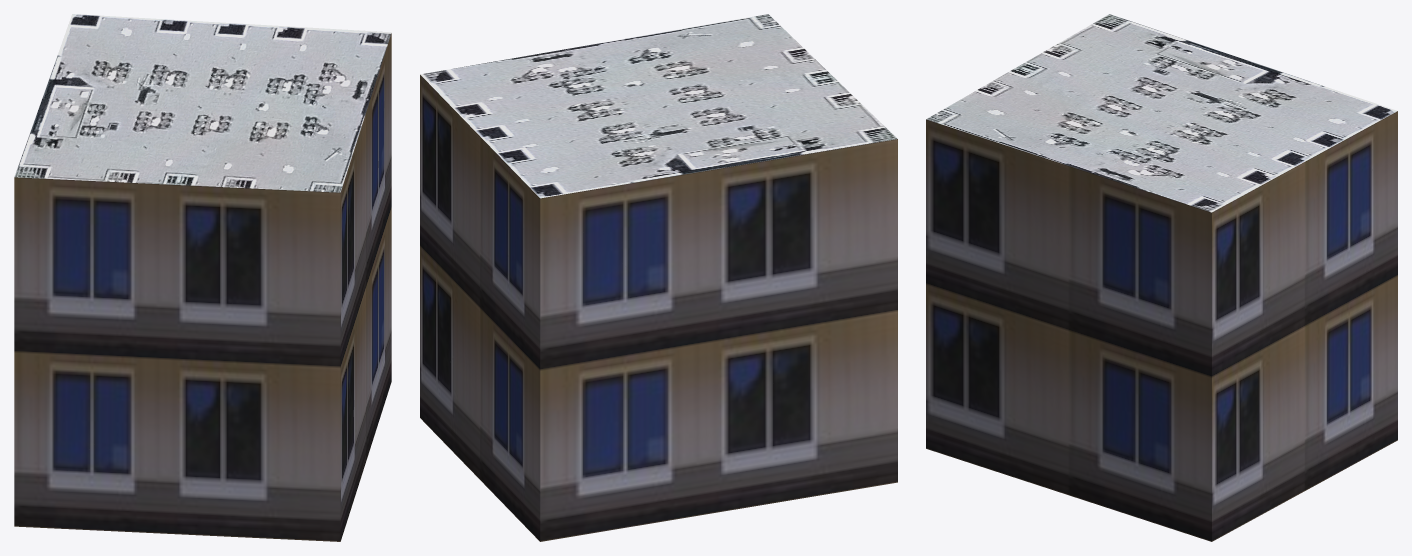
Rendered from ResTex__331.fbx.
The picture shows the model from 3 angles, left to right: view 1: azimuth 30°, elevation 25°; view 2: azimuth 150°, elevation 25°; view 3: azimuth 270°, elevation 25°; orthographic projection. The views are drawn at different scales.
Parts seen in each view (by area): view 1: CityEngineMaterial_5_m, CityEngineMaterial_4_m; view 2: CityEngineMaterial_5_m, CityEngineMaterial_4_m; view 3: CityEngineMaterial_5_m, CityEngineMaterial_4_m.
Boxes of the visible parts, x1,y1,x2,y2 form: CityEngineMaterial_5_m: (14,33,391,541); CityEngineMaterial_4_m: (14,14,391,192); CityEngineMaterial_5_m: (420,75,897,541); CityEngineMaterial_4_m: (420,14,897,198); CityEngineMaterial_5_m: (926,111,1397,541); CityEngineMaterial_4_m: (926,14,1397,212).
Size of the model in its own units: 7.76 by 6 by 7.79.
Materials: 2 (2 with a texture image).
